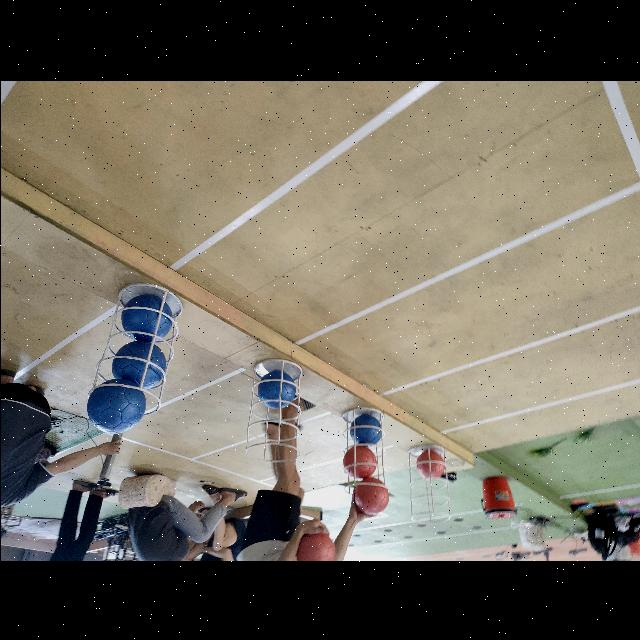B: (85, 379, 145, 433), (112, 341, 164, 387), (120, 294, 172, 338), (257, 369, 295, 408), (350, 414, 380, 444)
R: (354, 478, 388, 514), (342, 446, 376, 478), (416, 449, 444, 478)
